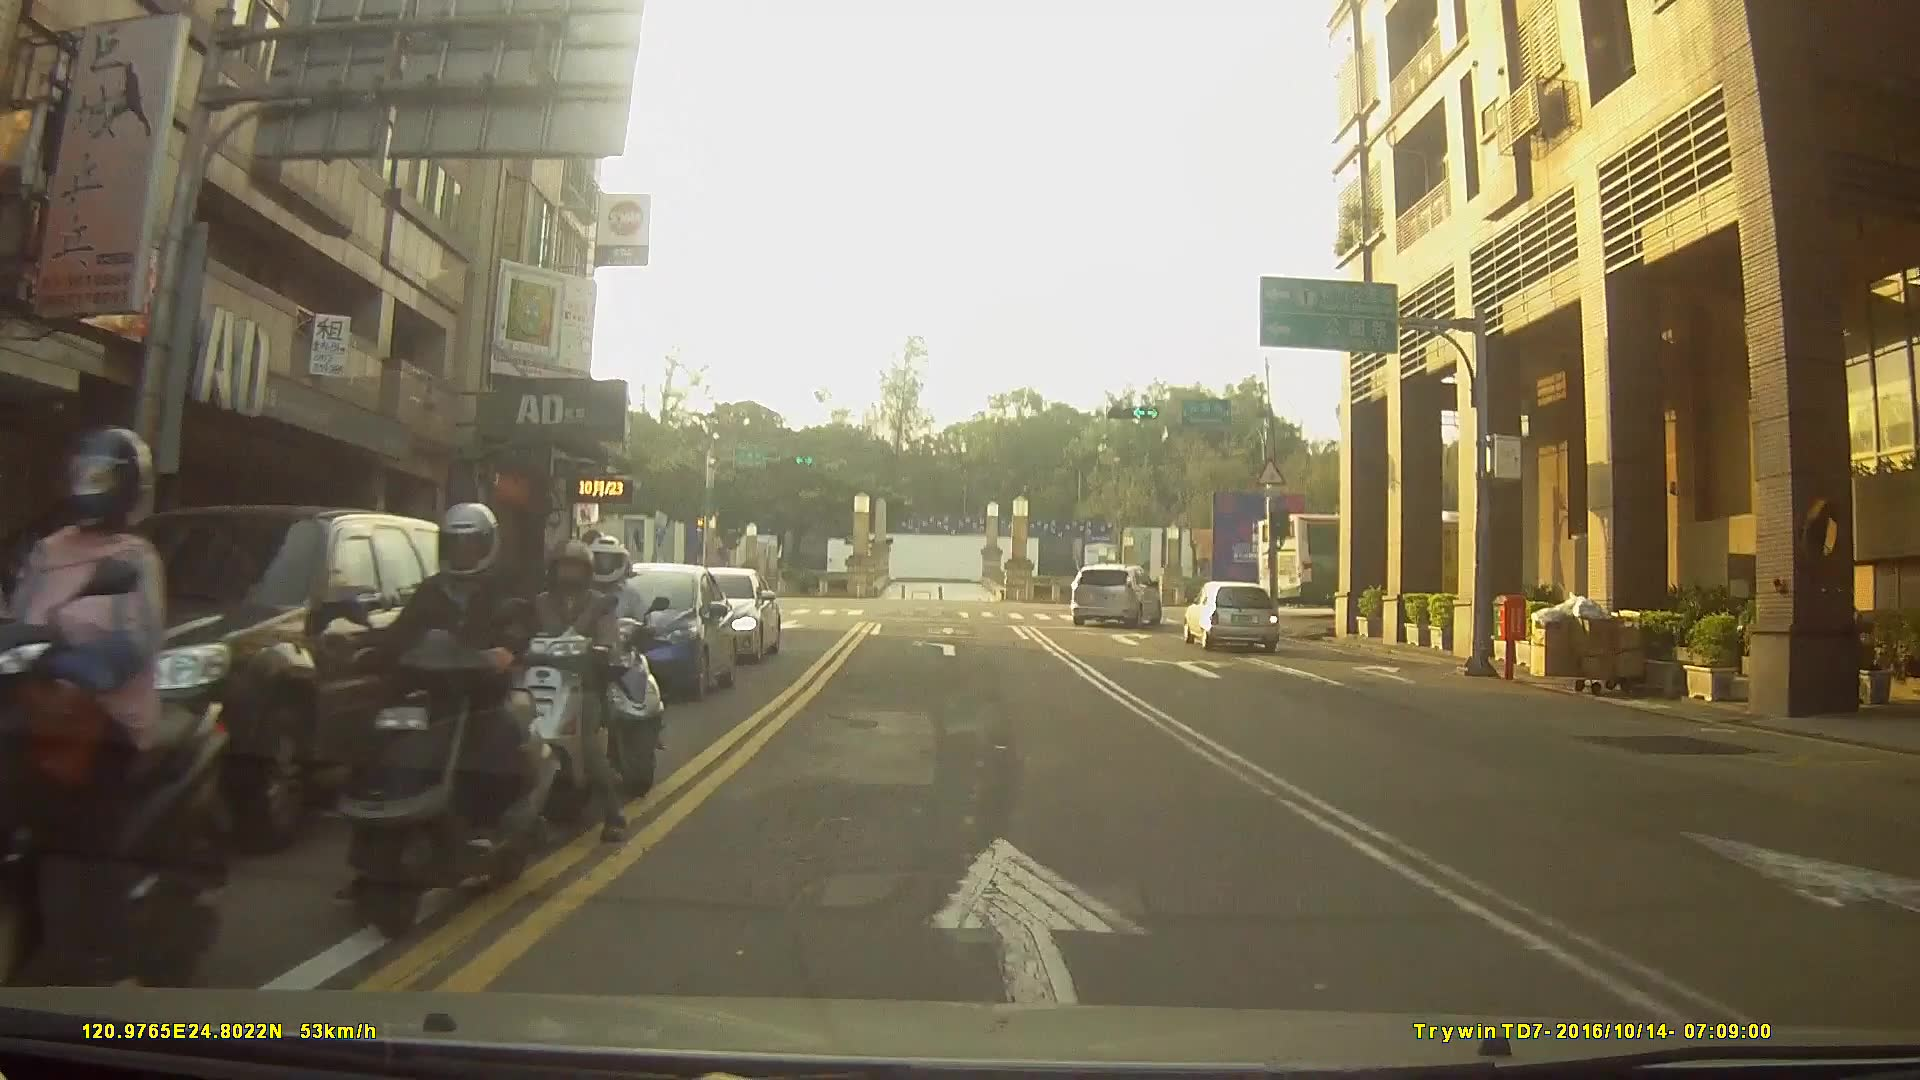rider: (1, 428, 238, 1080), (335, 504, 556, 948), (484, 538, 633, 853)
vehicle: (0, 502, 468, 853), (552, 557, 737, 701), (1257, 509, 1523, 606), (644, 563, 777, 663), (1180, 578, 1279, 651), (1070, 560, 1159, 624)
